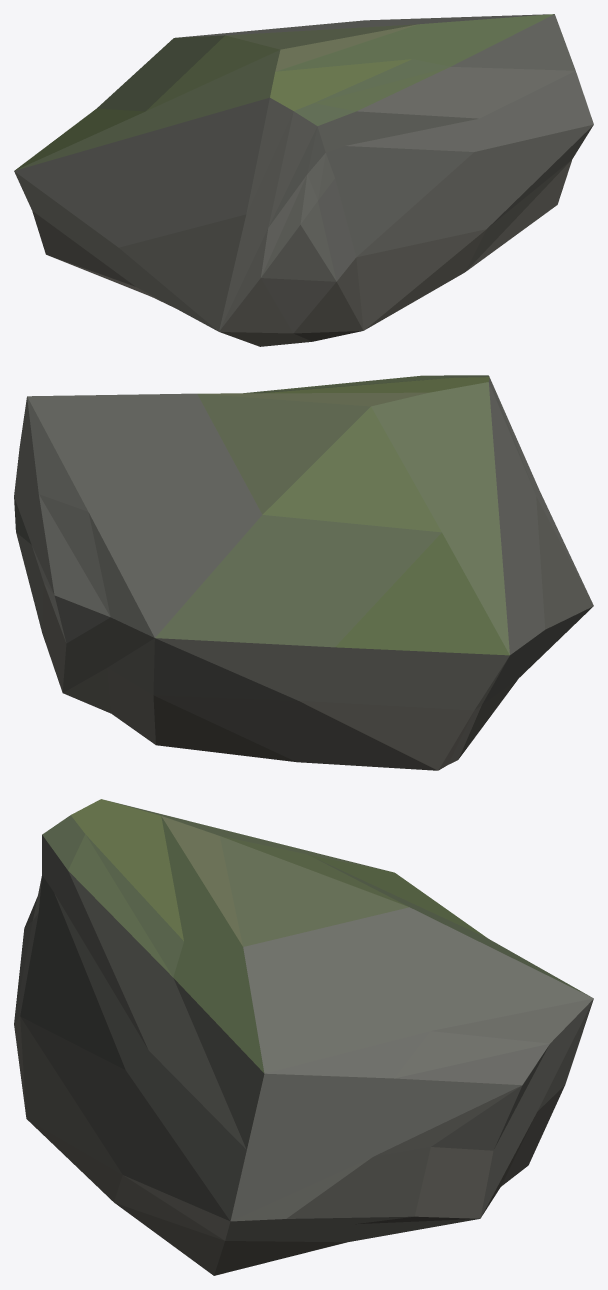
File: rock_c.glb
3 renders of one model, top to bottom at view 1: azimuth 30°, elevation 25°; view 2: azimuth 150°, elevation 25°; view 3: azimuth 270°, elevation 25°, orthographic. The views are drawn at different scales.
Parts seen in each view (by area): view 1: rock_c; view 2: rock_c; view 3: rock_c.
Part boxes in pixels (<box>): rock_c: <box>14,14,593,346</box>; rock_c: <box>14,375,593,770</box>; rock_c: <box>14,799,593,1275</box>.
Size of the model in its own units: 1.44 by 0.643 by 1.14.
